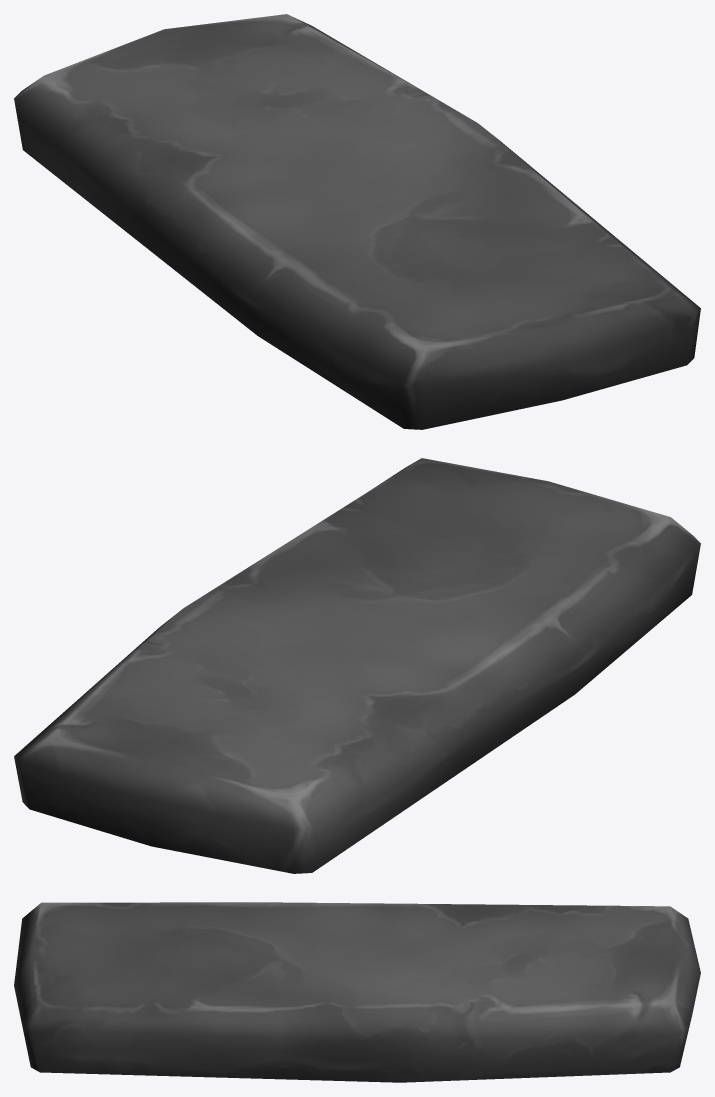
The model's file is M_Slab4.fbx.
The picture shows the model from 3 angles, top to bottom: view 1: azimuth 30°, elevation 25°; view 2: azimuth 150°, elevation 25°; view 3: azimuth 270°, elevation 25°; orthographic projection. The views are drawn at different scales.
Visible parts, largest first — view 1: M_Slab4; view 2: M_Slab4; view 3: M_Slab4.
Boxes of the visible parts, box(x1,y1,x2,y2) form: M_Slab4: box(14, 14, 700, 429); M_Slab4: box(14, 458, 700, 873); M_Slab4: box(14, 902, 700, 1082).
Size of the model in its own units: 1.66 by 0.3693 by 3.48.
